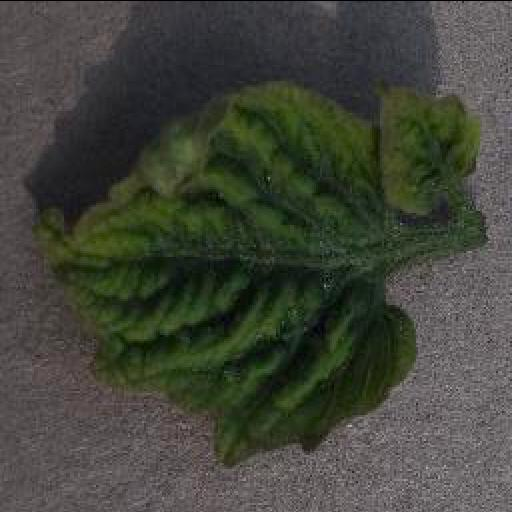disease_tomato: (40, 79, 478, 465)
